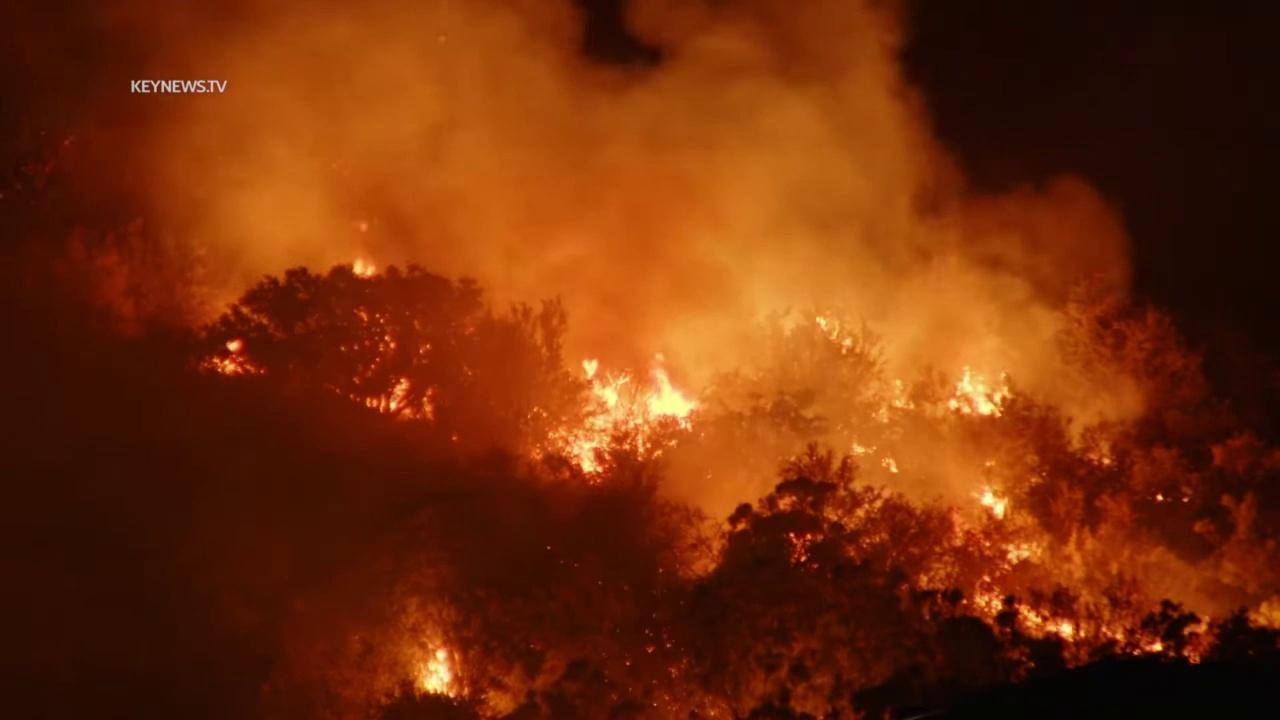fire: (972, 541, 1163, 665), (532, 351, 704, 482), (347, 304, 438, 422), (945, 361, 1015, 423), (868, 377, 920, 428), (415, 645, 461, 700), (202, 336, 268, 374), (814, 315, 855, 356), (1095, 426, 1134, 469), (972, 484, 1010, 522), (847, 436, 878, 457), (351, 256, 375, 278), (880, 454, 898, 474), (1153, 491, 1168, 504), (981, 458, 998, 468), (1181, 493, 1193, 504)
smoke: (0, 0, 1280, 720)
